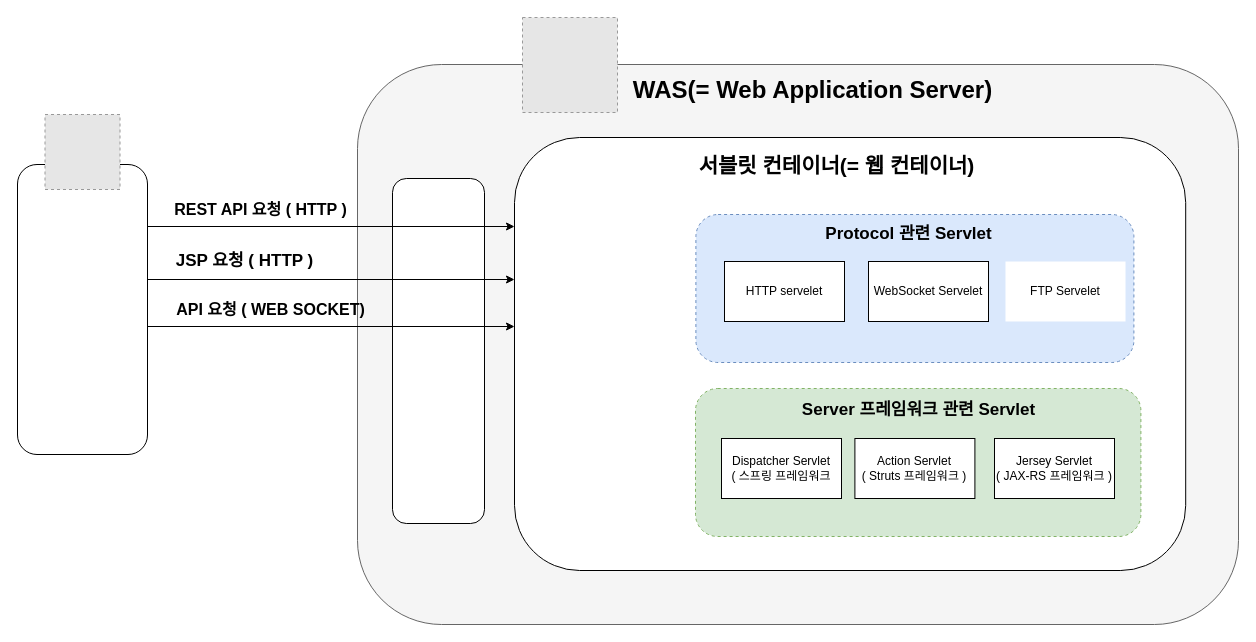
Some shapes in this 1256 by 642 pixel diagram are drawn without their labels. Grey dashed boxes stand in for pictures. The shapes that lost their labels are listed below. From the top down, each one's centre as x and y in pixels, then its label:
point 82,309: 웹 브라우저 (ex: Chorme)
point 438,351: WEB
